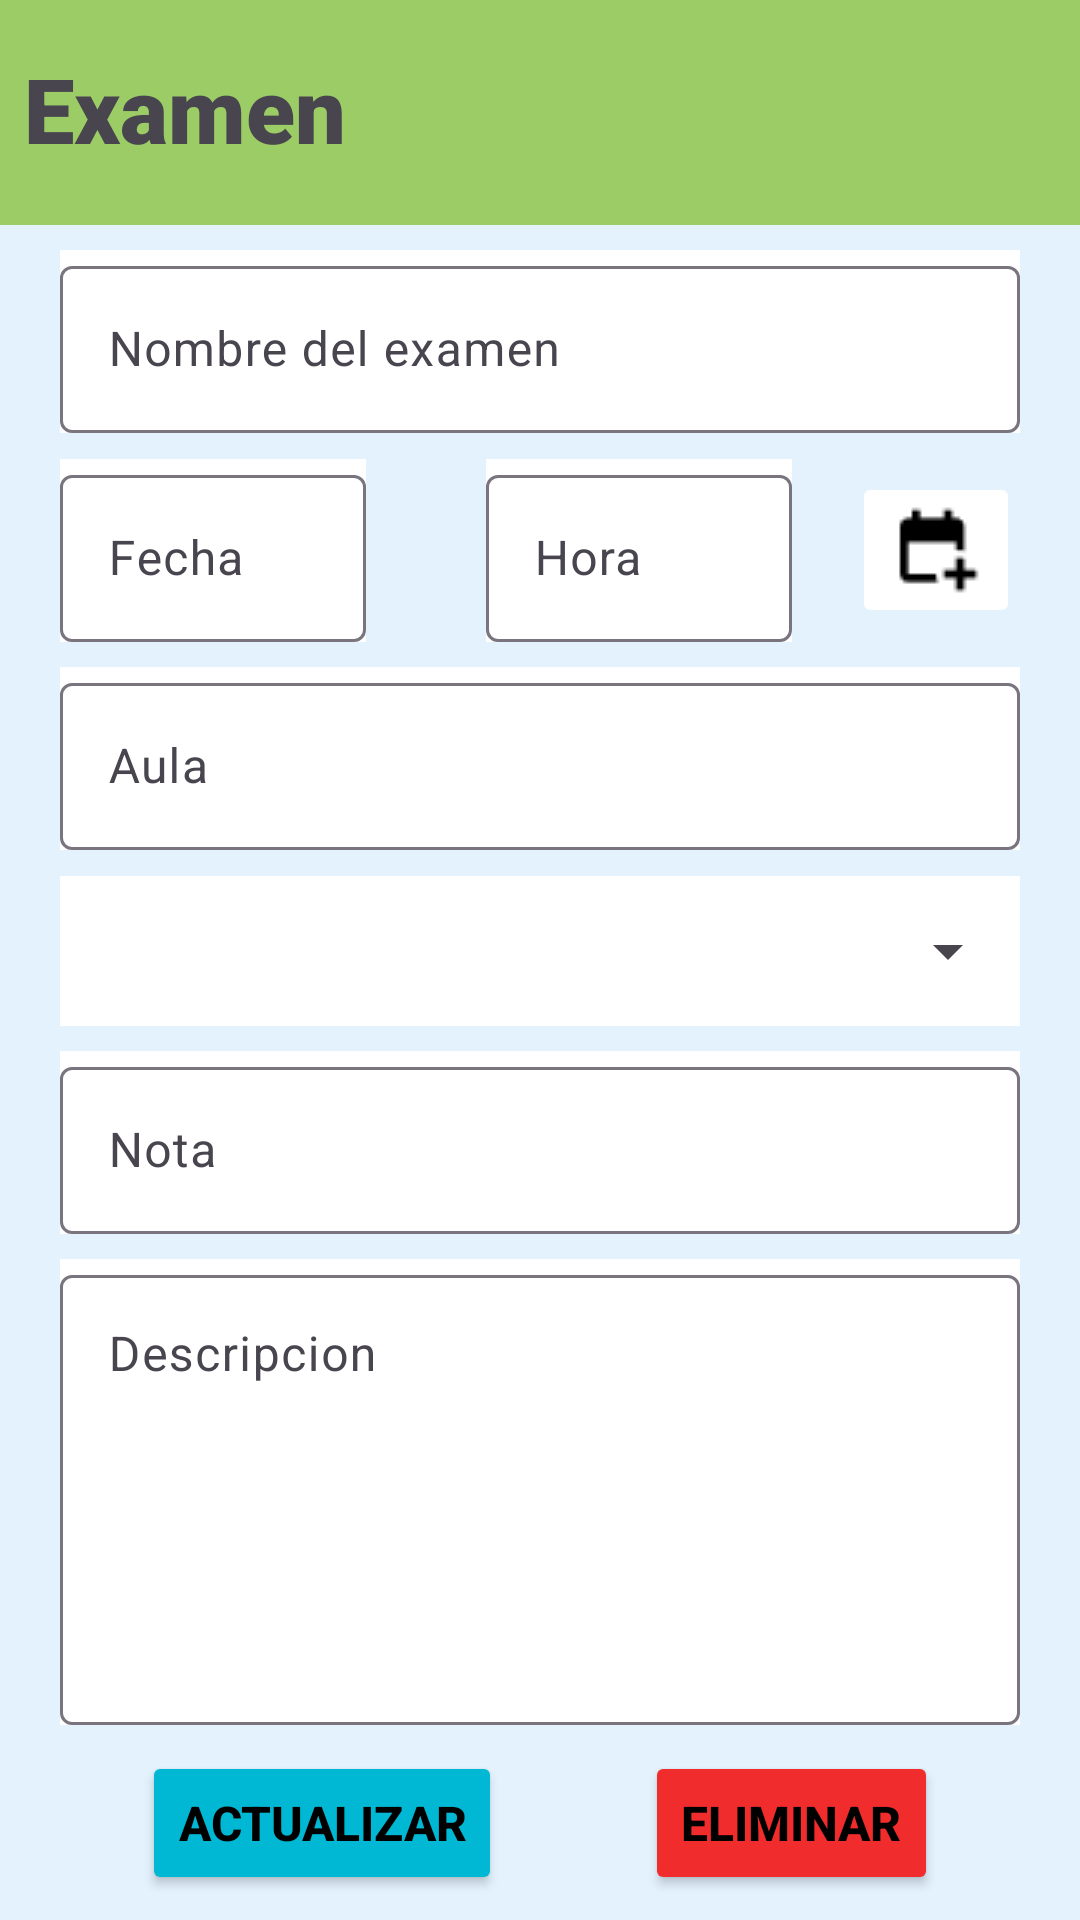

Named icons in this screenshot (1080 x 1920) and their bounding boxes, (x1, y1, x2, y2):
calendar: (864, 490, 1008, 610)
